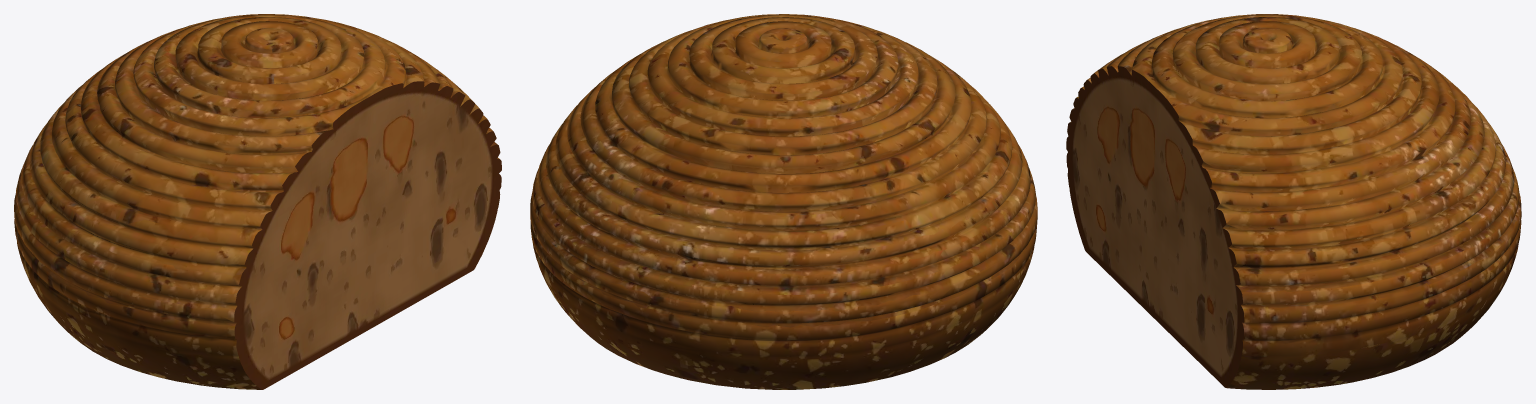
File: wholewheat--apricot-dried.glb
3 views of the same model, side by side, from view 1: azimuth 30°, elevation 25°; view 2: azimuth 150°, elevation 25°; view 3: azimuth 270°, elevation 25° (orthographic).
Parts seen in each view (by area): view 1: wholewheat_apricot-dried; view 2: wholewheat_apricot-dried; view 3: wholewheat_apricot-dried.
Part boxes in pixels (bbox=[...]): wholewheat_apricot-dried: bbox=[14, 14, 501, 389]; wholewheat_apricot-dried: bbox=[530, 14, 1037, 389]; wholewheat_apricot-dried: bbox=[1066, 14, 1521, 389].
Size of the model in its own units: 0.9999 by 0.5691 by 0.8939.
1 material, 1 textured.
